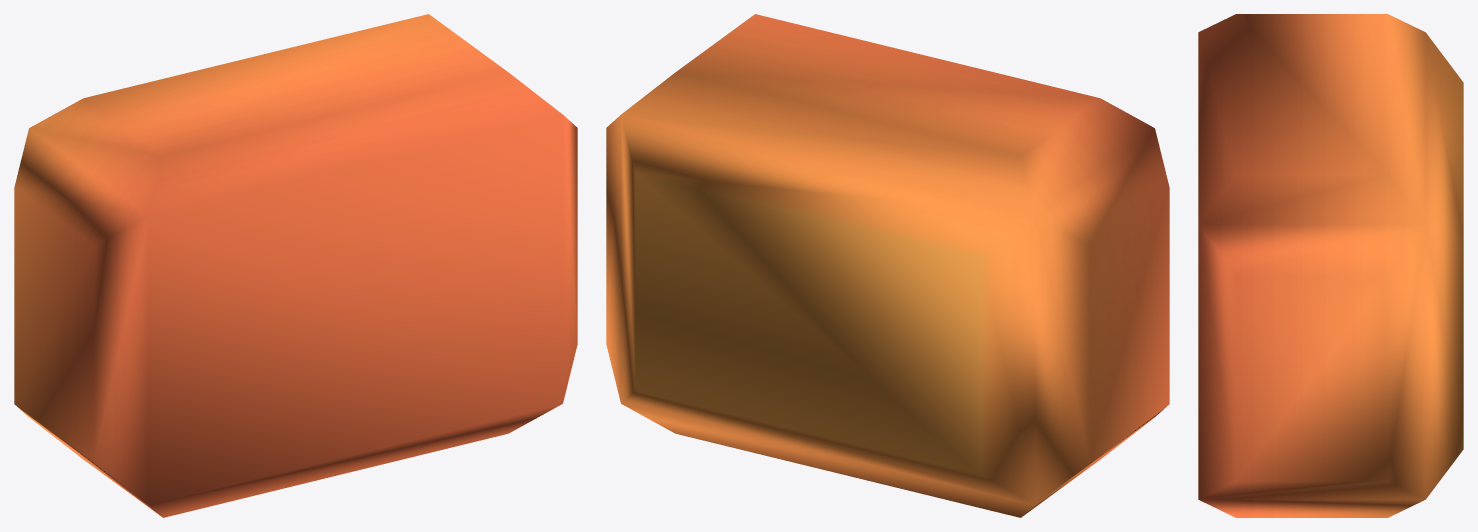
The model's file is hay-bale.obj.
The picture shows the model from 3 angles, left to right: view 1: azimuth 30°, elevation 25°; view 2: azimuth 150°, elevation 25°; view 3: azimuth 270°, elevation 25°; orthographic projection. The views are drawn at different scales.
Visible parts, largest first — view 1: hay-bale.001; view 2: hay-bale.001; view 3: hay-bale.001.
Boxes of the visible parts, x1,y1,x2,y2 form: hay-bale.001: (14,14,577,517); hay-bale.001: (606,14,1169,517); hay-bale.001: (1198,14,1463,517).
Size of the model in its own units: 0.7 by 0.5 by 0.35.
